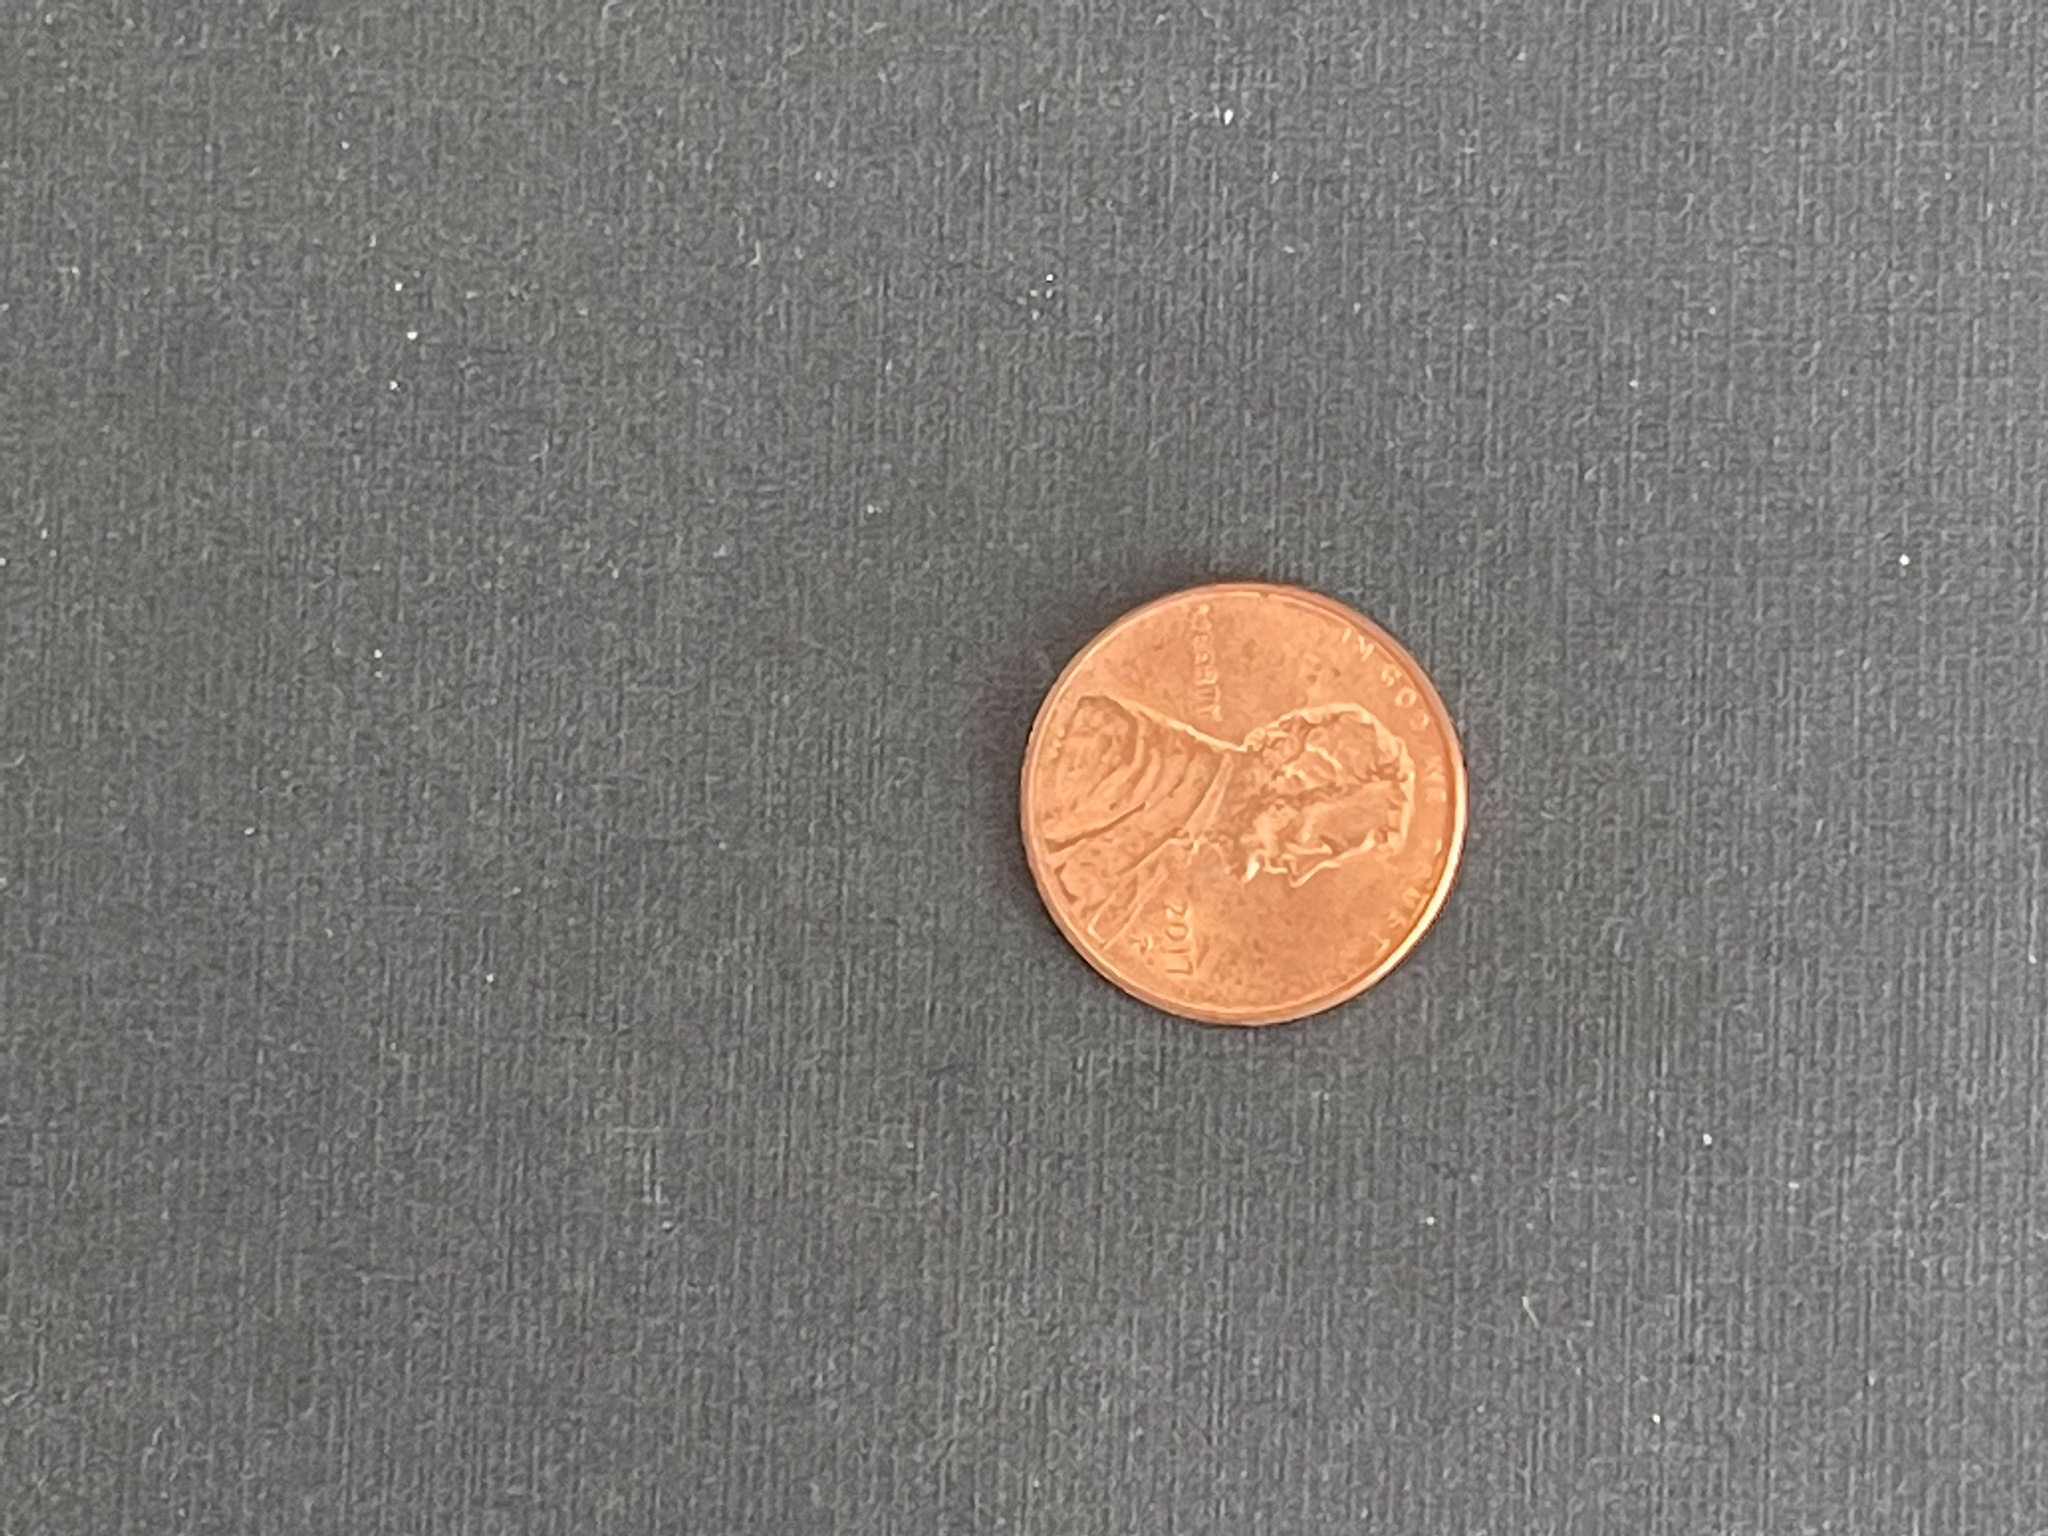penny: (1014, 574, 1469, 1033)
